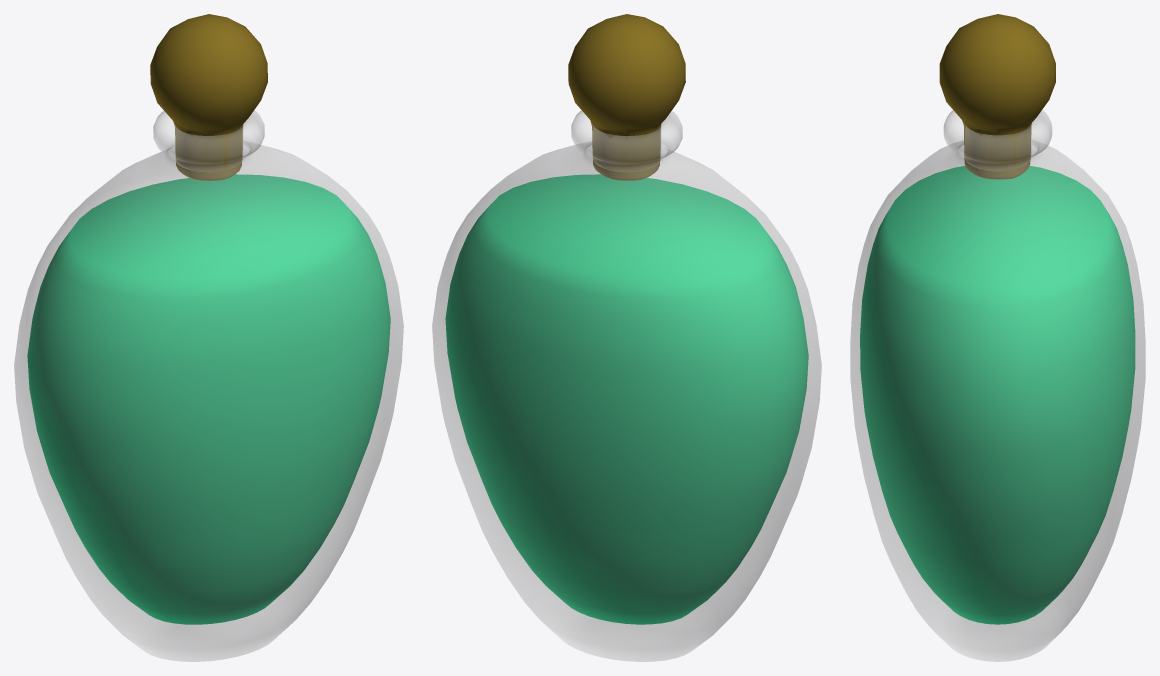
Rendered from bottle.fbx.
3 views of the same model, side by side, from view 1: azimuth 30°, elevation 25°; view 2: azimuth 150°, elevation 25°; view 3: azimuth 270°, elevation 25° (orthographic).
Parts seen in each view (by area): view 1: bottle_shell, bottle_inside, cap_default; view 2: bottle_shell, bottle_inside, cap_default; view 3: bottle_shell, bottle_inside, cap_default.
Boxes of the visible parts, left/top/right/bottom form: bottle_shell: left=14, top=110, right=403, bottom=661; bottle_inside: left=27, top=174, right=390, bottom=624; cap_default: left=150, top=14, right=267, bottom=180; bottle_shell: left=432, top=110, right=821, bottom=661; bottle_inside: left=445, top=174, right=808, bottom=624; cap_default: left=568, top=14, right=685, bottom=180; bottle_shell: left=850, top=110, right=1145, bottom=661; bottle_inside: left=860, top=166, right=1135, bottom=624; cap_default: left=939, top=14, right=1055, bottom=179.
Size of the model in its own units: 214 by 350 by 153.
